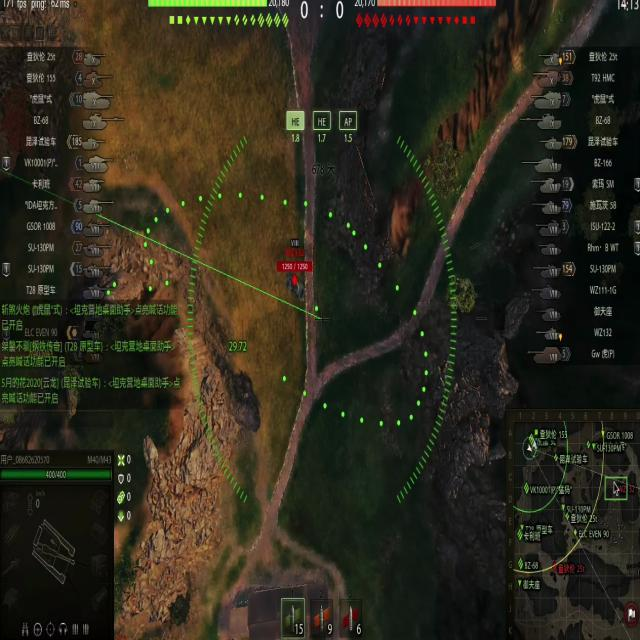tank: (278, 252, 316, 303)
